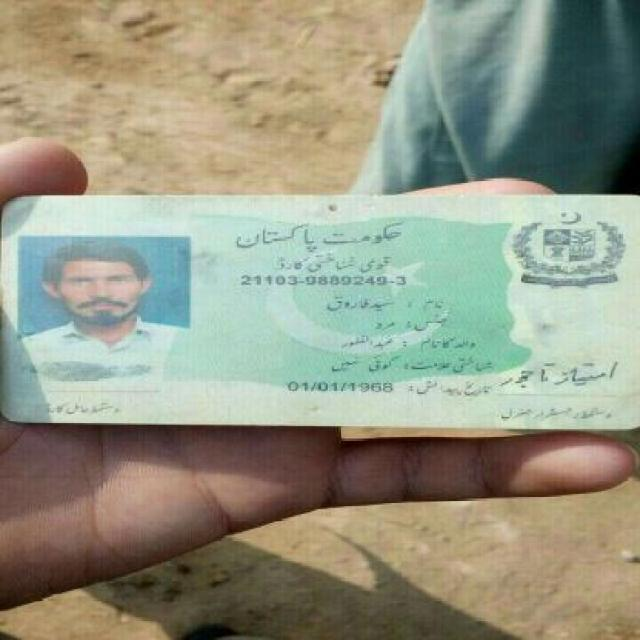Front: (6, 186, 640, 443)
